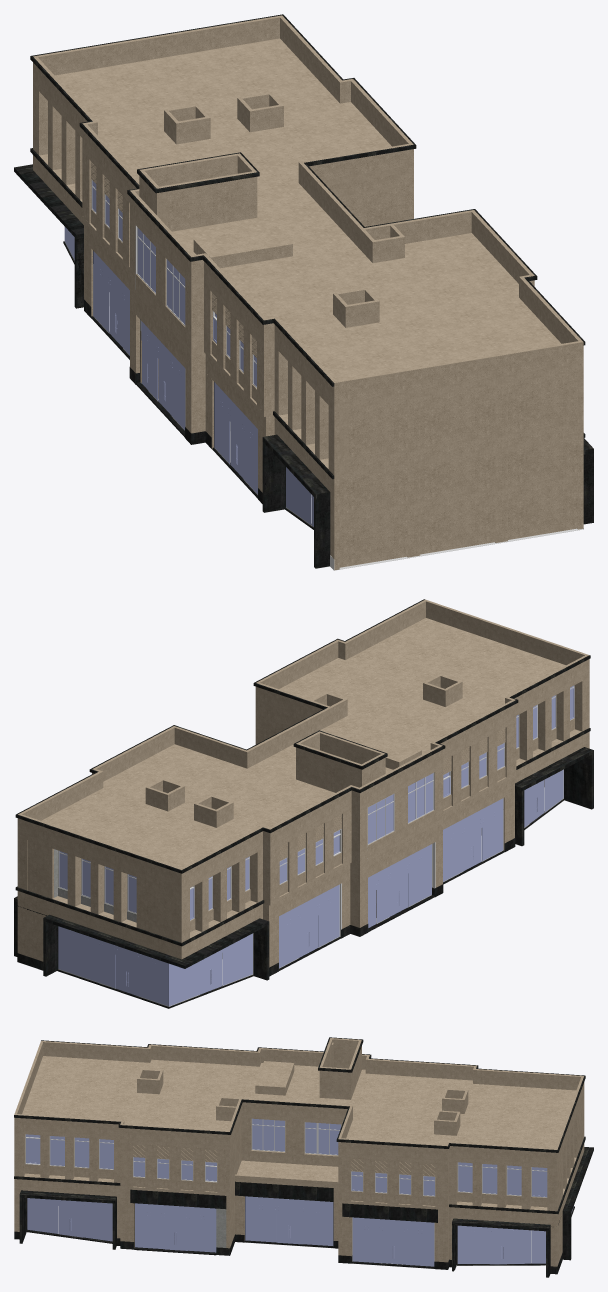
3 views of the same model, one above another, from view 1: azimuth 30°, elevation 25°; view 2: azimuth 150°, elevation 25°; view 3: azimuth 270°, elevation 25° (orthographic). The views are drawn at different scales.
Parts seen in each view (by area): view 1: Floor FIN-15CM [521809], Basic Wall MAIN WALL - 200mm [501413], Basic Wall MAIN WALL - 200mm [349668], Basic Wall MAIN WALL - 200mm [501441], Generic Models 3 Generic Models 3 [357650], Generic Models 4 Generic Models 4 [365780], Basic Wall MAIN WALL - 200mm [371883], Basic Wall MAIN WALL - 200mm [386412], Basic Wall MAIN WALL - 200mm [393522], Generic Models 1 Generic Models 1 [348116], Floor SLAB - 24CM [348758], Generic Models 5 Generic Models 4 [523251] (+33 smaller); view 2: Floor FIN-15CM [521809], Generic Models 3 Generic Models 3 [357650], Generic Models 4 Generic Models 4 [365780], Generic Models 1 Generic Models 1 [348116], Basic Wall MAIN WALL - 200mm [371883], Basic Wall MAIN WALL - 200mm [386412], Floor SLAB - 24CM [348758], Basic Wall MAIN WALL - 200mm [393403], Basic Wall MAIN WALL - 200mm [388280], Floor SLAB - 24CM [347421], Basic Wall MAIN WALL - 200mm [404419], Basic Wall MAIN WALL - 200mm [404415] (+44 smaller); view 3: Floor FIN-15CM [521809], Generic Models 3 Generic Models 3 [357650], Generic Models 4 Generic Models 4 [365780], Generic Models 1 Generic Models 1 [348116], Floor SLAB - 24CM [347421], Floor SLAB - 24CM [348758], Basic Wall MAIN WALL - 200mm [384539], Basic Wall MAIN WALL - 200mm [408901], Basic Wall MAIN WALL - 200mm [386040], Basic Wall MAIN WALL - 200mm [371183], Basic Wall MAIN WALL - 200mm [404418], Basic Wall MAIN WALL - 200mm [404416] (+81 smaller).
Boxes of the visible parts, box(x1,y1,x2,y2) form: Floor FIN-15CM [521809]: box(55, 38, 561, 380); Basic Wall MAIN WALL - 200mm [501413]: box(420, 384, 495, 554); Basic Wall MAIN WALL - 200mm [349668]: box(339, 398, 407, 567); Basic Wall MAIN WALL - 200mm [501441]: box(508, 372, 577, 539); Generic Models 3 Generic Models 3 [357650]: box(14, 14, 593, 498); Generic Models 4 Generic Models 4 [365780]: box(33, 85, 583, 475); Basic Wall MAIN WALL - 200mm [371883]: box(332, 340, 583, 405); Basic Wall MAIN WALL - 200mm [386412]: box(37, 15, 283, 75); Basic Wall MAIN WALL - 200mm [393522]: box(155, 171, 257, 231); Generic Models 1 Generic Models 1 [348116]: box(89, 228, 260, 431); Floor SLAB - 24CM [348758]: box(33, 79, 582, 409); Generic Models 5 Generic Models 4 [523251]: box(193, 226, 292, 268); Floor FIN-15CM [521809]: box(41, 618, 565, 868); Generic Models 3 Generic Models 3 [357650]: box(14, 599, 593, 968); Generic Models 4 Generic Models 4 [365780]: box(67, 677, 589, 942); Generic Models 1 Generic Models 1 [348116]: box(276, 781, 507, 917); Basic Wall MAIN WALL - 200mm [371883]: box(424, 599, 589, 673); Basic Wall MAIN WALL - 200mm [386412]: box(17, 813, 180, 886); Floor SLAB - 24CM [348758]: box(17, 673, 589, 891); Basic Wall MAIN WALL - 200mm [393403]: box(296, 743, 363, 792); Basic Wall MAIN WALL - 200mm [388280]: box(136, 877, 172, 939); Floor SLAB - 24CM [347421]: box(53, 729, 581, 938); Basic Wall MAIN WALL - 200mm [404419]: box(245, 706, 332, 768); Basic Wall MAIN WALL - 200mm [404415]: box(343, 600, 425, 659); Floor FIN-15CM [521809]: box(22, 1056, 576, 1148); Generic Models 3 Generic Models 3 [357650]: box(14, 1037, 593, 1231); Generic Models 4 Generic Models 4 [365780]: box(14, 1095, 584, 1209); Generic Models 1 Generic Models 1 [348116]: box(130, 1181, 437, 1222); Floor SLAB - 24CM [347421]: box(24, 1157, 576, 1210); Floor SLAB - 24CM [348758]: box(17, 1091, 584, 1167); Basic Wall MAIN WALL - 200mm [384539]: box(365, 1058, 476, 1080); Basic Wall MAIN WALL - 200mm [408901]: box(151, 1044, 257, 1066); Basic Wall MAIN WALL - 200mm [386040]: box(475, 1069, 584, 1090); Basic Wall MAIN WALL - 200mm [371183]: box(43, 1041, 147, 1062); Basic Wall MAIN WALL - 200mm [404418]: box(338, 1138, 448, 1161); Basic Wall MAIN WALL - 200mm [404416]: box(120, 1124, 230, 1146).
Size of the model in its own units: 21.64 by 12.15 by 45.49.
6 materials, 5 textured.
